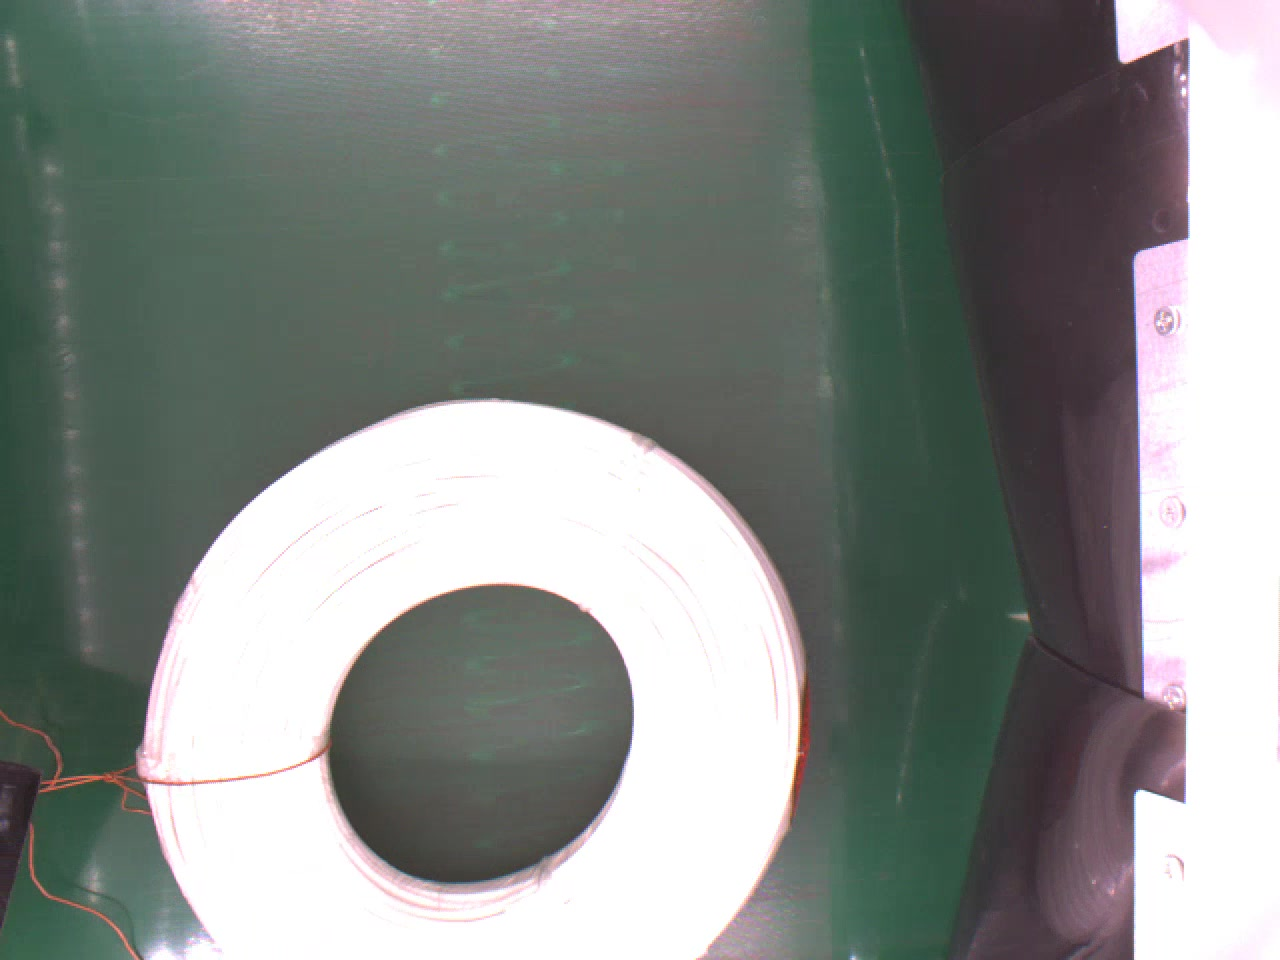white: (136, 398, 809, 960)
